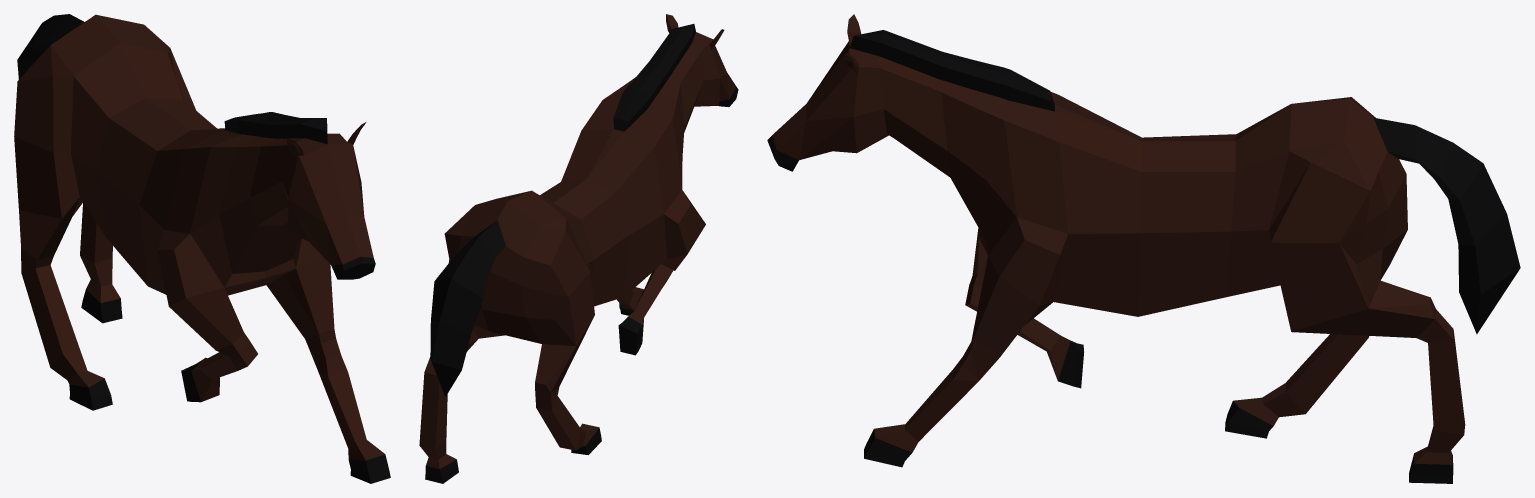
Rendered from Horse_000009.obj.
3 renders of one model, left to right at view 1: azimuth 30°, elevation 25°; view 2: azimuth 150°, elevation 25°; view 3: azimuth 270°, elevation 25°, orthographic. The views are drawn at different scales.
Visible parts, largest first — view 1: Horse_Cylinder; view 2: Horse_Cylinder; view 3: Horse_Cylinder.
Boxes of the visible parts, <box> form: Horse_Cylinder: <box>14,14,390,483</box>; Horse_Cylinder: <box>419,14,738,483</box>; Horse_Cylinder: <box>767,14,1520,483</box>.
Bounding box in the file's own units: 2.6 × 6.15 × 9.88.
